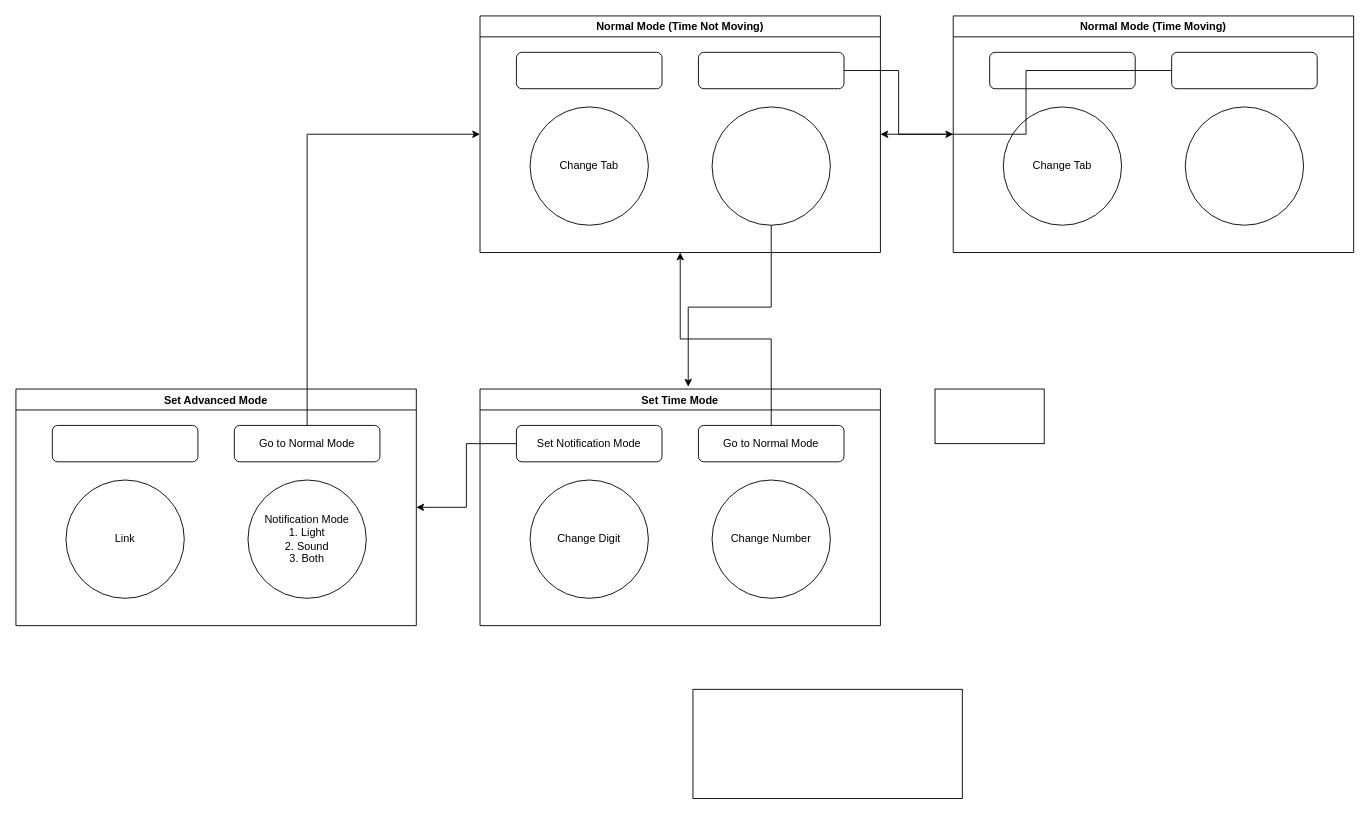
The diagram is 1370 pixels wide and 814 high, and some of its shapes have lost their labels. The shapes that lost their labels are listed below. From the top down, each one's centre as x and y in pixels, then its label:
the point at 589,70: Short : Quick Count Down Long : Reset to zero
the point at 771,70: Start Time
the point at 1244,70: Stop Time
the point at 770,165: Go to Set Mode
the point at 989,416: Set TIme Notification
the point at 827,743: TODO - Change Count Mode
